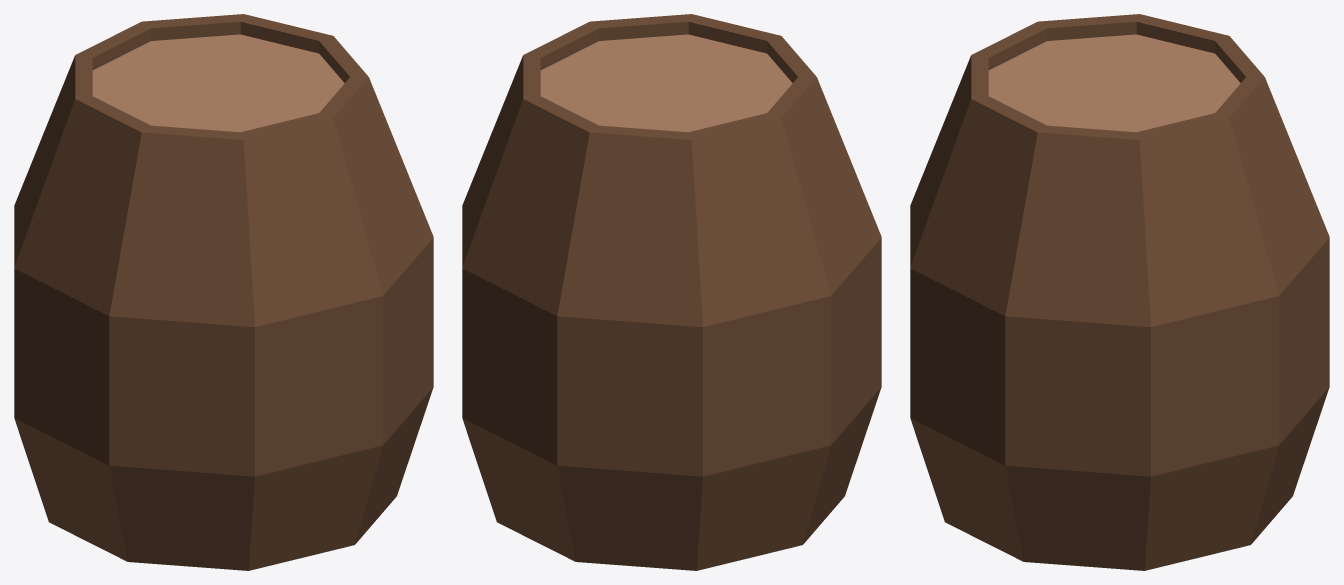
File: Barrel.fbx
The picture shows the model from 3 angles, left to right: view 1: azimuth 30°, elevation 25°; view 2: azimuth 150°, elevation 25°; view 3: azimuth 270°, elevation 25°; orthographic projection.
Parts seen in each view (by area): view 1: Barrel; view 2: Barrel; view 3: Barrel.
Part boxes in pixels (x1=…): Barrel: x1=14, y1=14, x2=433, y2=570; Barrel: x1=462, y1=14, x2=881, y2=570; Barrel: x1=910, y1=14, x2=1329, y2=570.
Size of the model in its own units: 190 by 206 by 187.
